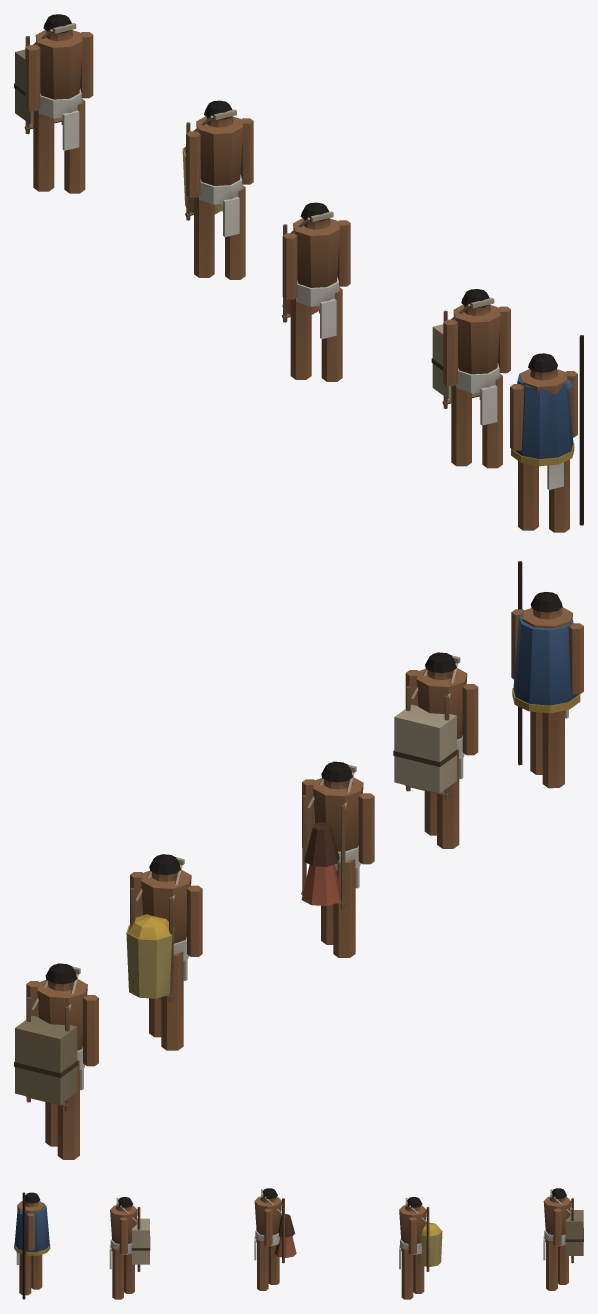
File: wagon.glb
3 views of the same model, one above another, from view 1: azimuth 30°, elevation 25°; view 2: azimuth 150°, elevation 25°; view 3: azimuth 270°, elevation 25° (orthographic). The views are drawn at different scales.
Visible parts, largest first — view 1: base; view 2: base; view 3: base.
Part boxes in pixels (bbox=[...]): base: bbox=[14, 14, 583, 532]; base: bbox=[14, 561, 583, 1159]; base: bbox=[14, 1188, 583, 1299].
Size of the model in its own units: 0.9042 by 1.7 by 8.28.
